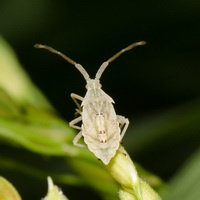insect: (34, 41, 145, 164)
